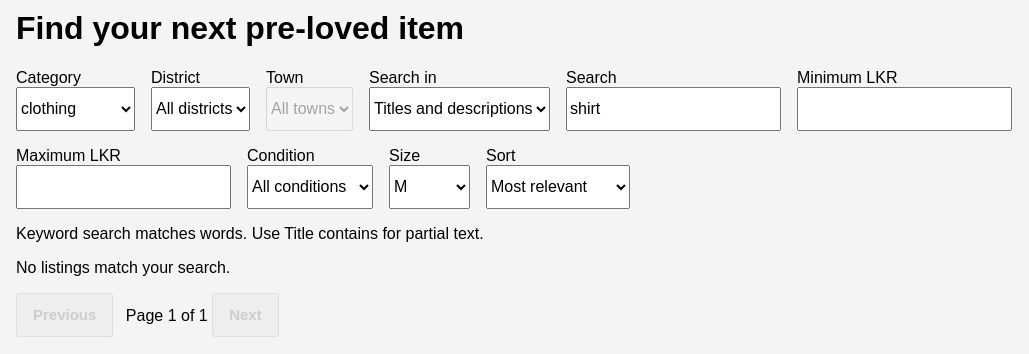
Test case: changing away from clothing clears a stale size and filters use canonical values
This screenshot has width=1029, height=354.
Expected: the text "No listings match your search." is shown, left=16, top=259, right=230, bottom=276
Select "Like New" in the dropdown labelled "Condition" at coordinates (310, 187), box left=247, top=165, right=373, bottom=209
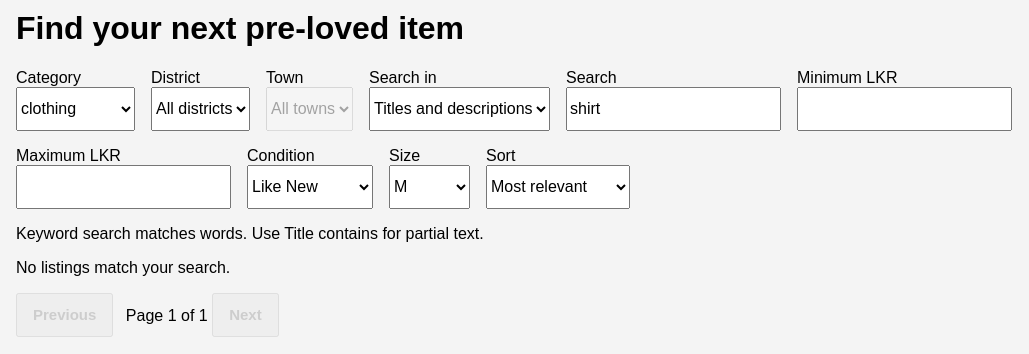
Select "books" in the dropdown labelled "Category" at coordinates (76, 109), box left=16, top=87, right=135, bottom=131
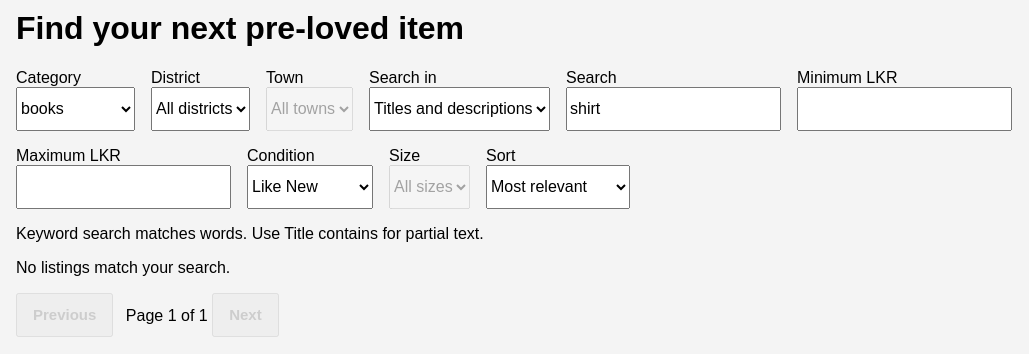
Result: the dropdown labelled "Size" is disabled at left=389, top=165, right=470, bottom=209
